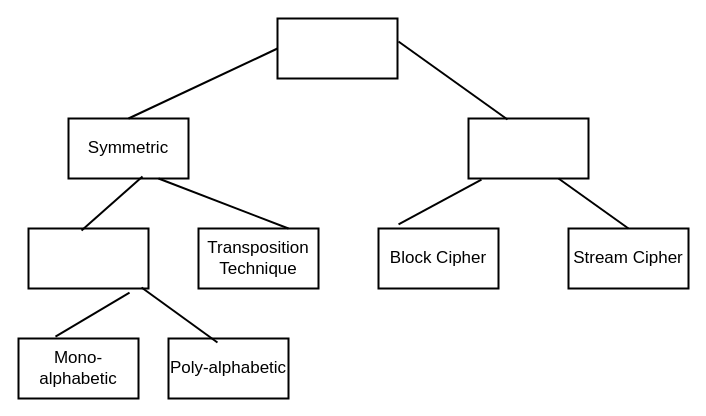
The diagram is 706 pixels wide and 416 high, and some of its shapes have lost their labels. The box of each missing label's shape, as (x1, y1, x2, y2) in pixels:
Asymmetric: (467, 117, 589, 179)
Cryptography: (276, 17, 398, 79)
Substitution Technique: (27, 227, 149, 289)
